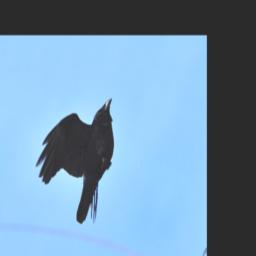Crow: (19, 83, 141, 229)
